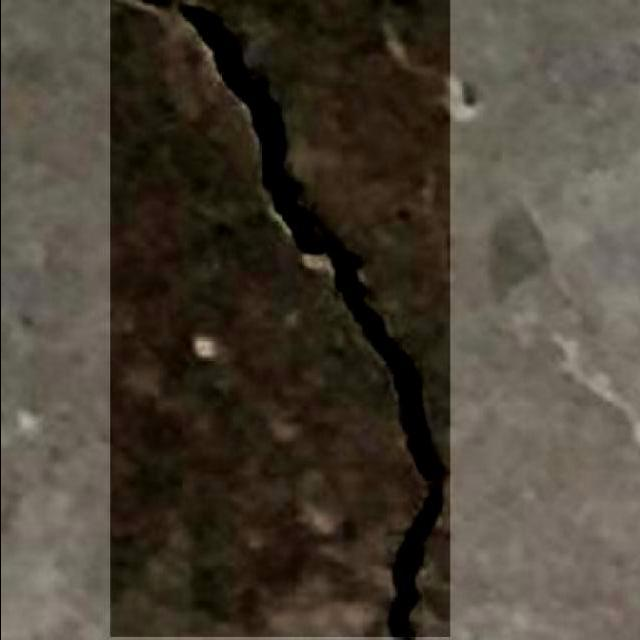SurfaceCrack: (122, 2, 446, 640)
